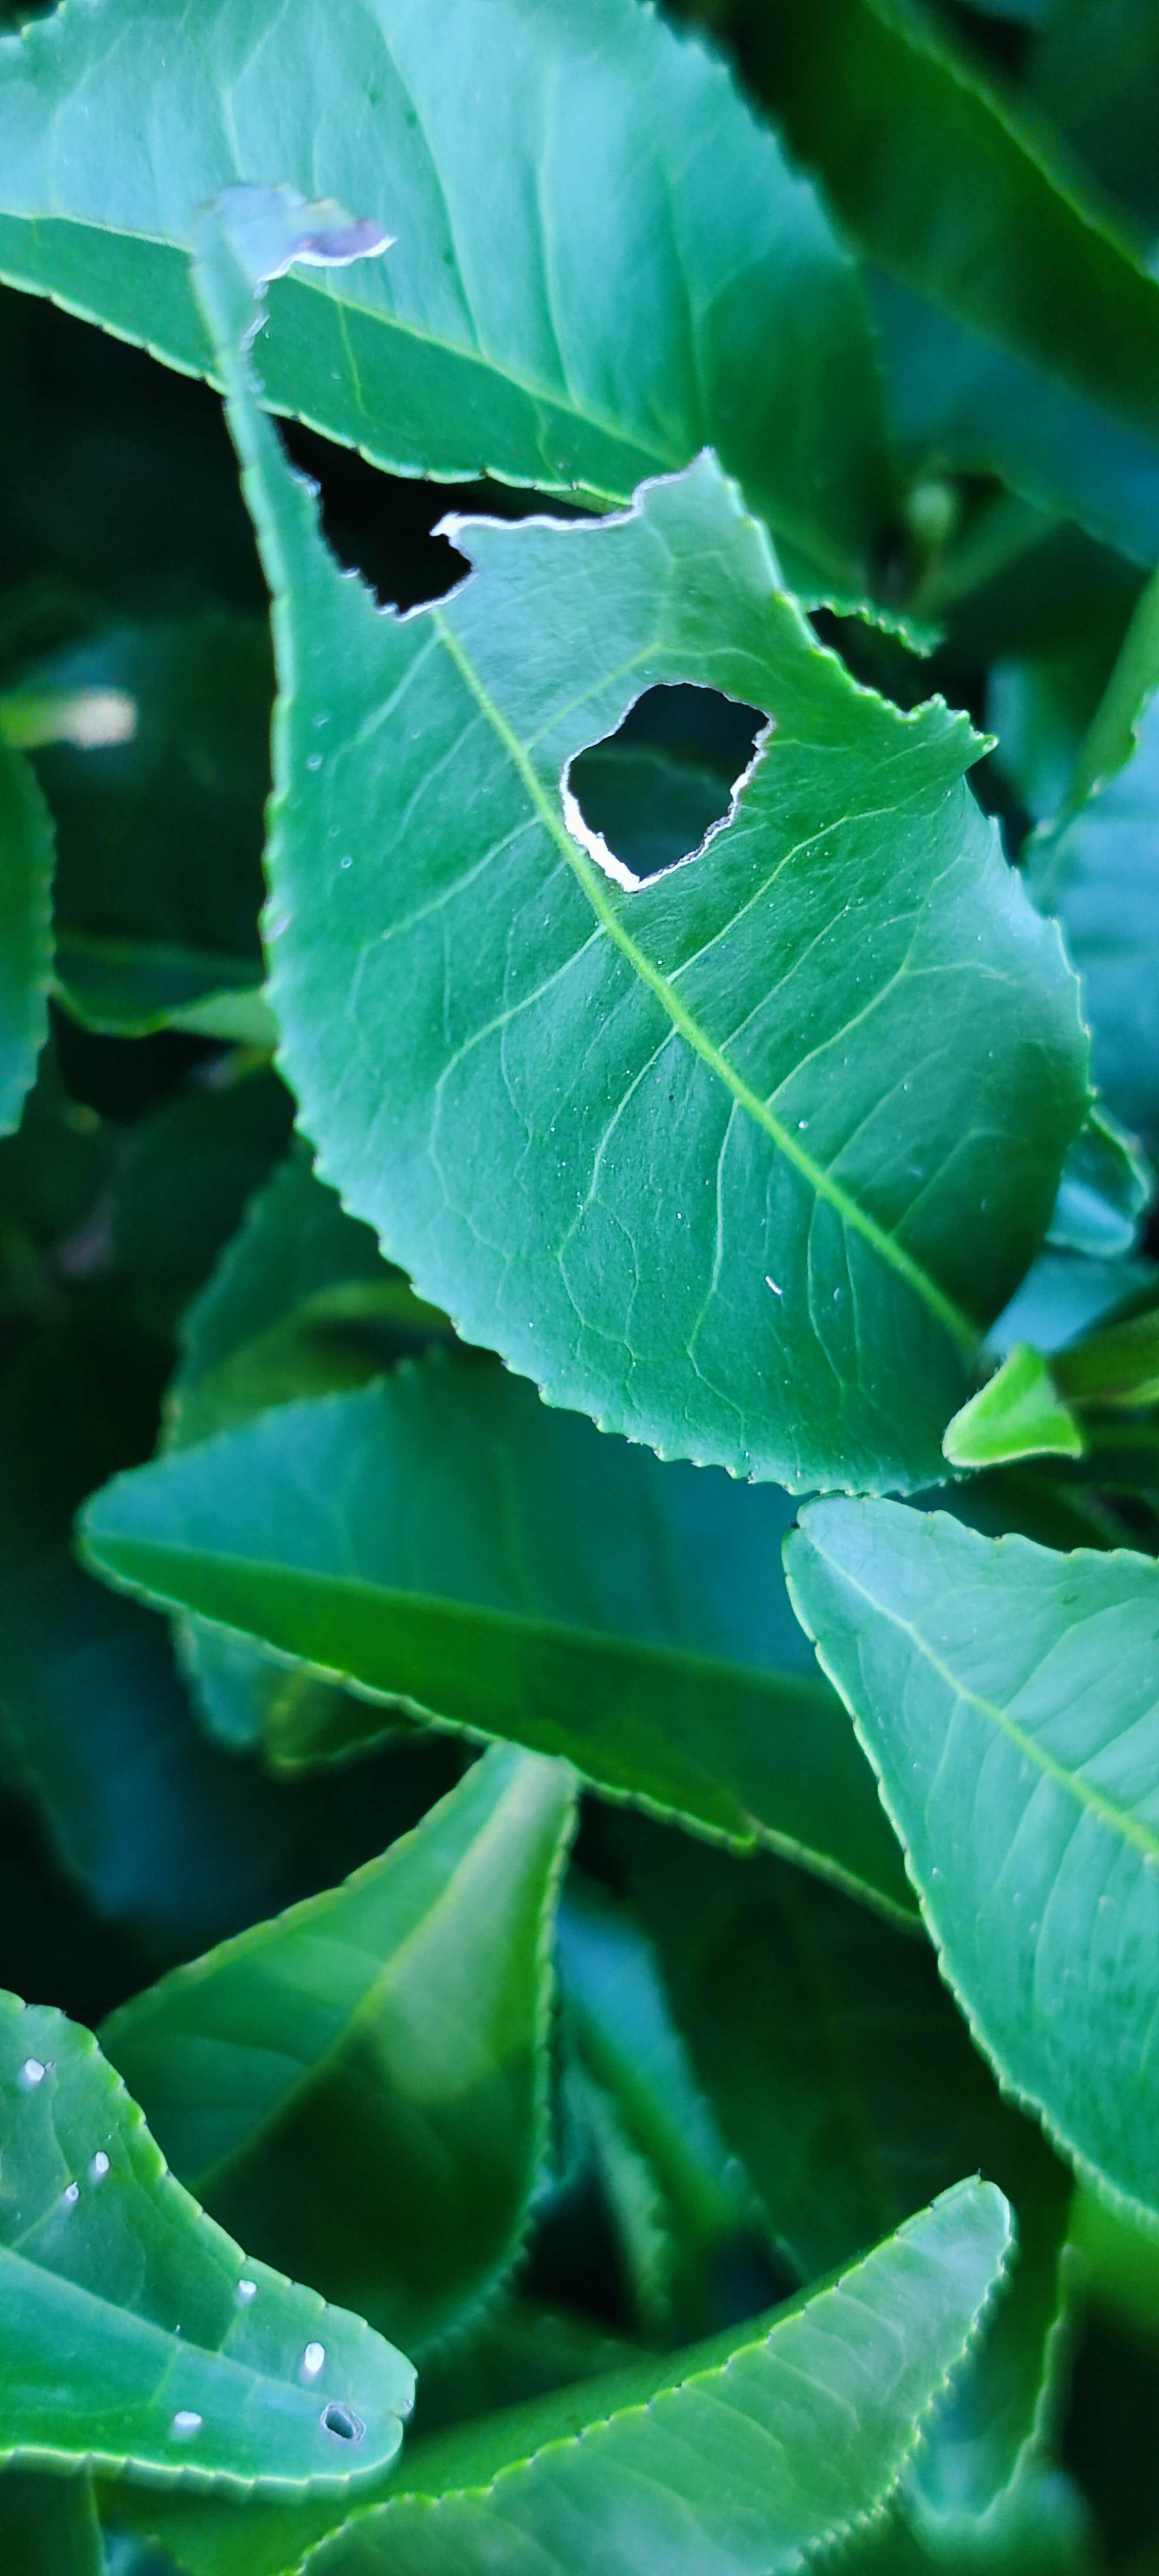chihuo_high: (182, 184, 1102, 1503)
healthy: (69, 1350, 924, 1909), (785, 1490, 1159, 2211)
tanju_low: (3, 1981, 424, 2489)
